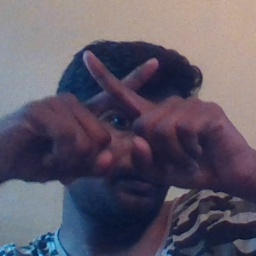X: (55, 41, 177, 166)
